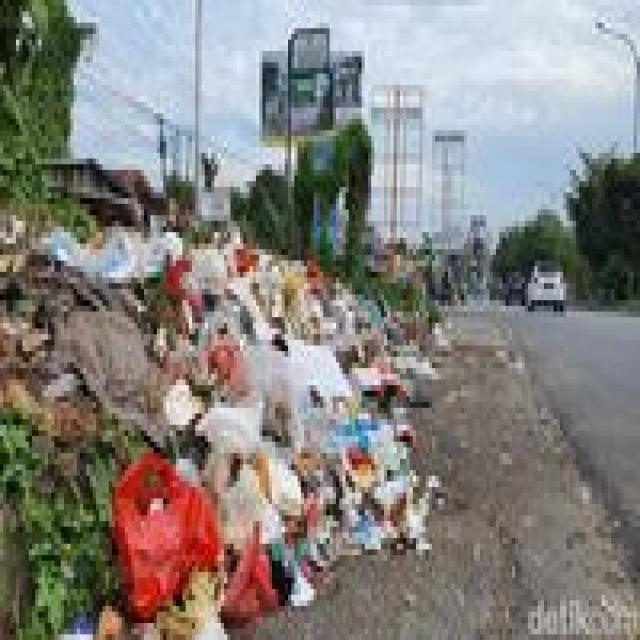trash: (0, 145, 457, 628)
